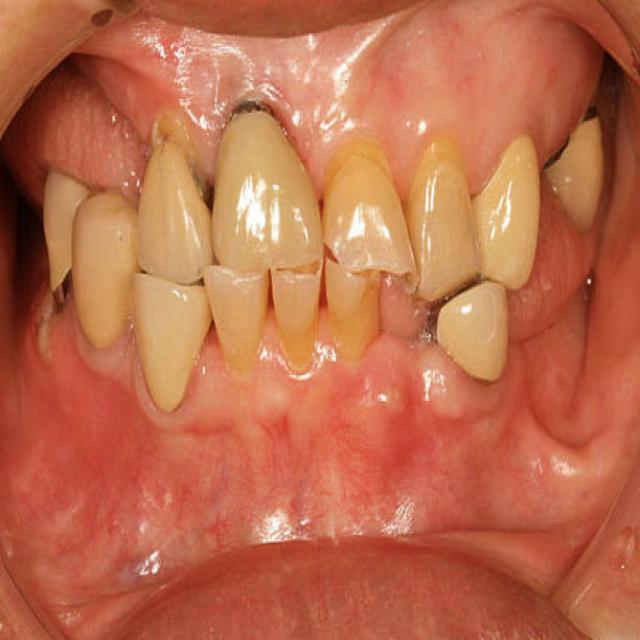caries: (144, 105, 200, 168), (222, 90, 275, 135), (540, 127, 578, 177), (44, 265, 74, 321), (576, 94, 606, 139)
